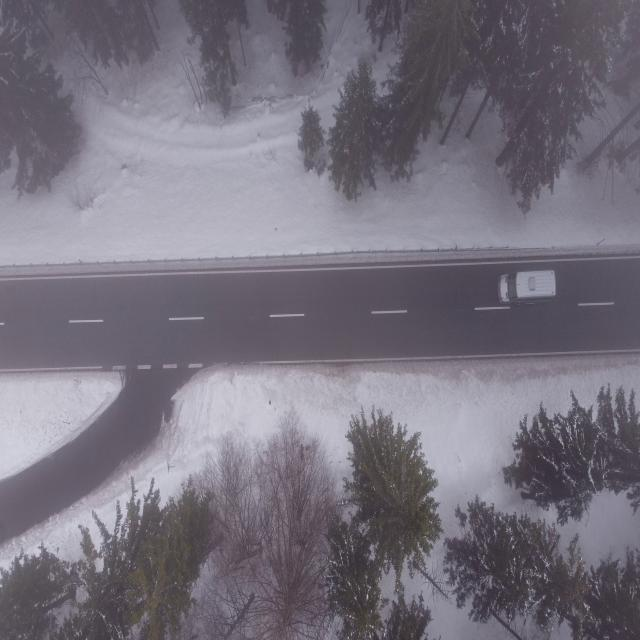vehicle: (498, 268, 556, 302)
